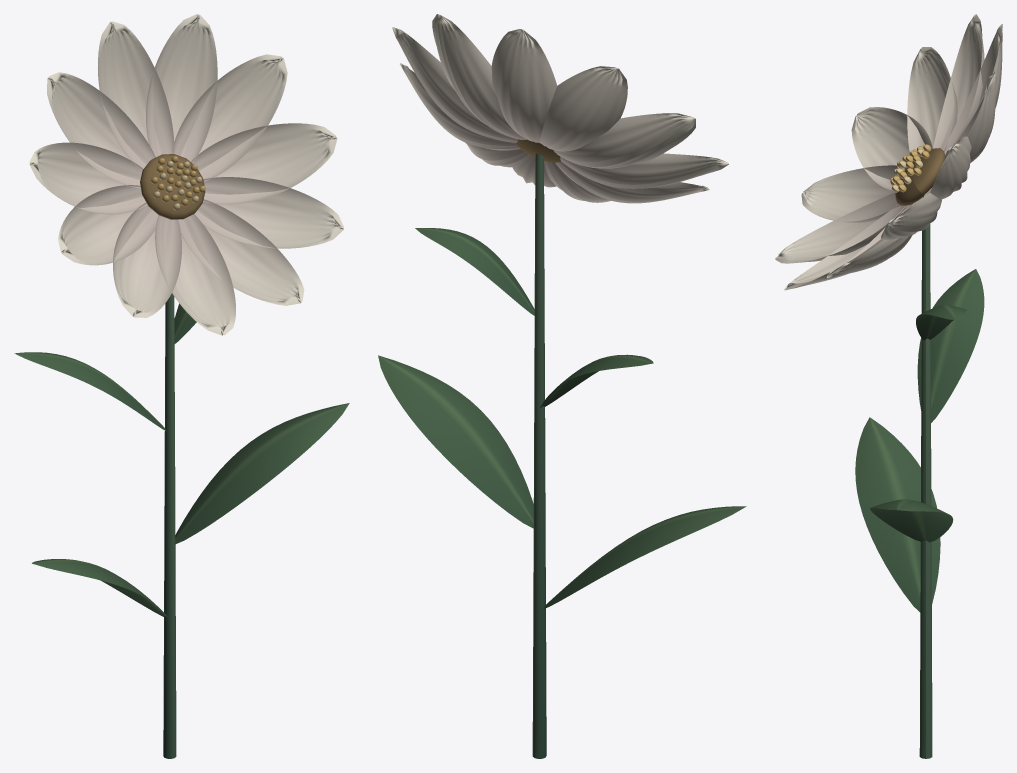
File: flower.glb
3 views of the same model, side by side, from view 1: azimuth 30°, elevation 25°; view 2: azimuth 150°, elevation 25°; view 3: azimuth 270°, elevation 25° (orthographic). The views are drawn at different scales.
Parts seen in each view (by area): view 1: Leaf_Lower_Right, Petal_0_10, Petal_0_00, Petal_0_09, Petal_0_01, Petal_0_08, Petal_0_02, Stem, Petal_0_07, Petal_0_03, Petal_0_06, Petal_0_04 (+5 smaller); view 2: Leaf_Lower_Right, Stem, Petal_0_07, Petal_0_08, Petal_0_06, Petal_0_09, Leaf_Lower_Left, Petal_0_05, Petal_0_10, Leaf_Upper_Right, Petal_0_04, Petal_0_00 (+3 smaller); view 3: Leaf_Lower_Left, Stem, Leaf_Upper_Left, Petal_0_05, Petal_0_06, Petal_0_04, Petal_0_03, Petal_0_07, Leaf_Lower_Right, Petal_0_02, Petal_0_08, Petal_0_10 (+6 smaller).
Boxes of the visible parts, left/top/right/bottom form: Leaf_Lower_Right: left=175, top=403, right=349, bottom=544; Petal_0_10: left=171, top=54, right=287, bottom=181; Petal_0_00: left=191, top=123, right=337, bottom=204; Petal_0_09: left=146, top=14, right=217, bottom=163; Petal_0_01: left=192, top=177, right=343, bottom=248; Petal_0_08: left=98, top=21, right=174, bottom=170; Petal_0_02: left=176, top=199, right=304, bottom=305; Stem: left=163, top=293, right=176, bottom=758; Petal_0_07: left=47, top=72, right=155, bottom=188; Petal_0_03: left=155, top=214, right=235, bottom=335; Petal_0_06: left=29, top=142, right=147, bottom=214; Petal_0_04: left=113, top=202, right=181, bottom=317; Leaf_Lower_Right: left=378, top=355, right=533, bottom=528; Stem: left=532, top=153, right=546, bottom=758; Petal_0_07: left=540, top=66, right=627, bottom=151; Petal_0_08: left=491, top=29, right=557, bottom=142; Petal_0_06: left=553, top=113, right=695, bottom=168; Petal_0_09: left=432, top=14, right=526, bottom=139; Leaf_Lower_Left: left=543, top=506, right=746, bottom=608; Petal_0_05: left=560, top=153, right=728, bottom=188; Petal_0_10: left=392, top=27, right=518, bottom=142; Leaf_Upper_Right: left=415, top=228, right=534, bottom=315; Petal_0_04: left=555, top=161, right=709, bottom=203; Petal_0_00: left=400, top=63, right=520, bottom=150; Leaf_Lower_Left: left=855, top=417, right=940, bottom=612; Stem: left=919, top=223, right=932, bottom=758; Leaf_Upper_Left: left=917, top=269, right=984, bottom=422; Petal_0_05: left=851, top=107, right=932, bottom=190; Petal_0_06: left=907, top=47, right=957, bottom=151; Petal_0_04: left=801, top=165, right=907, bottom=222; Petal_0_03: left=775, top=192, right=907, bottom=263; Petal_0_07: left=933, top=14, right=984, bottom=149; Leaf_Lower_Right: left=870, top=499, right=953, bottom=542; Petal_0_02: left=784, top=202, right=915, bottom=290; Petal_0_08: left=943, top=24, right=1002, bottom=155; Petal_0_10: left=924, top=136, right=971, bottom=198.
Bounding box in the file's own units: 1.8 × 3.7 × 1.06.
